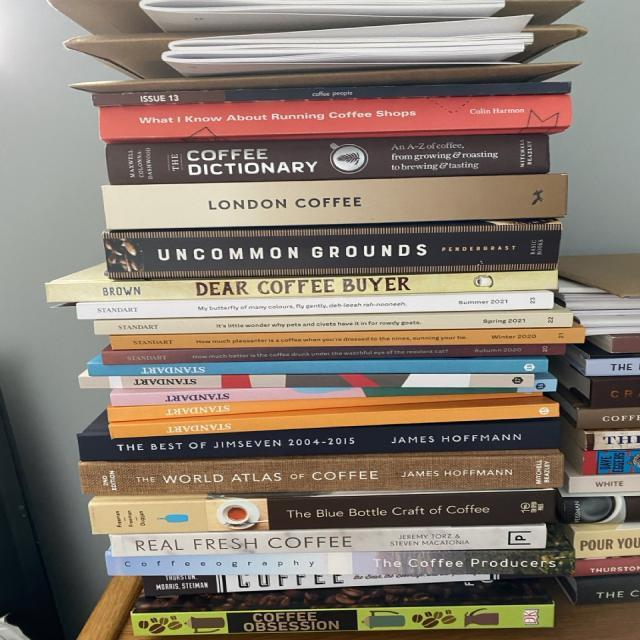book: (101, 176, 567, 231), (103, 225, 561, 279), (101, 96, 571, 141), (88, 490, 555, 534), (107, 137, 550, 183), (77, 453, 562, 494), (79, 421, 559, 461), (109, 404, 558, 439), (44, 273, 557, 303), (132, 604, 554, 635), (109, 526, 545, 556), (105, 551, 575, 576), (75, 295, 554, 319), (93, 81, 571, 105), (95, 312, 573, 335), (101, 343, 564, 365), (109, 329, 585, 349), (87, 360, 547, 377), (78, 375, 535, 389)
